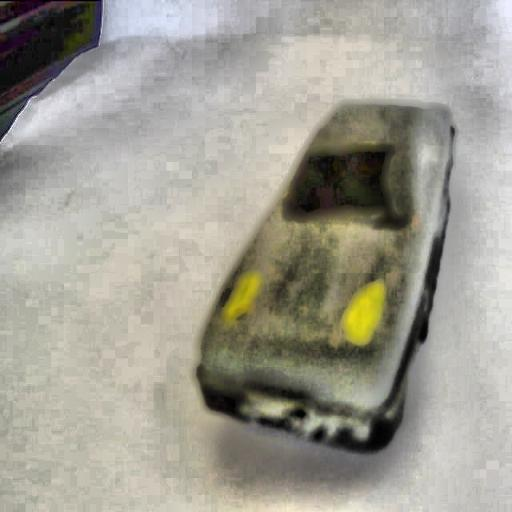normal_car: (188, 100, 458, 454)
